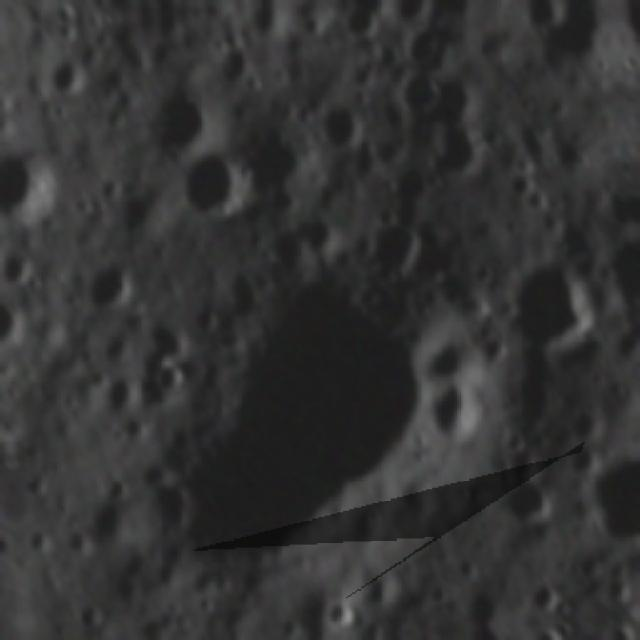crater: (140, 262, 468, 566), (506, 244, 606, 365), (172, 133, 262, 232), (531, 0, 620, 92), (583, 444, 640, 550), (0, 138, 69, 222), (136, 85, 213, 160), (356, 206, 426, 282), (432, 380, 493, 448), (80, 253, 138, 319), (422, 324, 483, 384), (432, 122, 494, 181), (317, 94, 369, 158), (116, 182, 166, 242), (501, 479, 562, 528), (426, 72, 482, 125), (402, 15, 452, 71), (43, 50, 99, 99), (299, 203, 350, 255), (217, 34, 266, 86), (270, 227, 318, 276), (377, 0, 435, 40), (0, 241, 43, 294), (333, 0, 387, 42), (102, 367, 149, 415), (552, 122, 594, 175), (398, 70, 444, 116), (89, 495, 133, 543), (363, 562, 408, 608), (392, 160, 437, 200), (522, 575, 560, 620), (519, 0, 576, 29), (316, 593, 358, 632), (564, 435, 601, 479), (100, 468, 142, 504), (252, 3, 292, 35), (353, 279, 392, 310), (603, 574, 640, 606), (72, 598, 106, 632), (22, 522, 55, 556), (574, 550, 608, 582), (154, 359, 183, 396), (452, 555, 479, 582), (282, 616, 308, 639)
